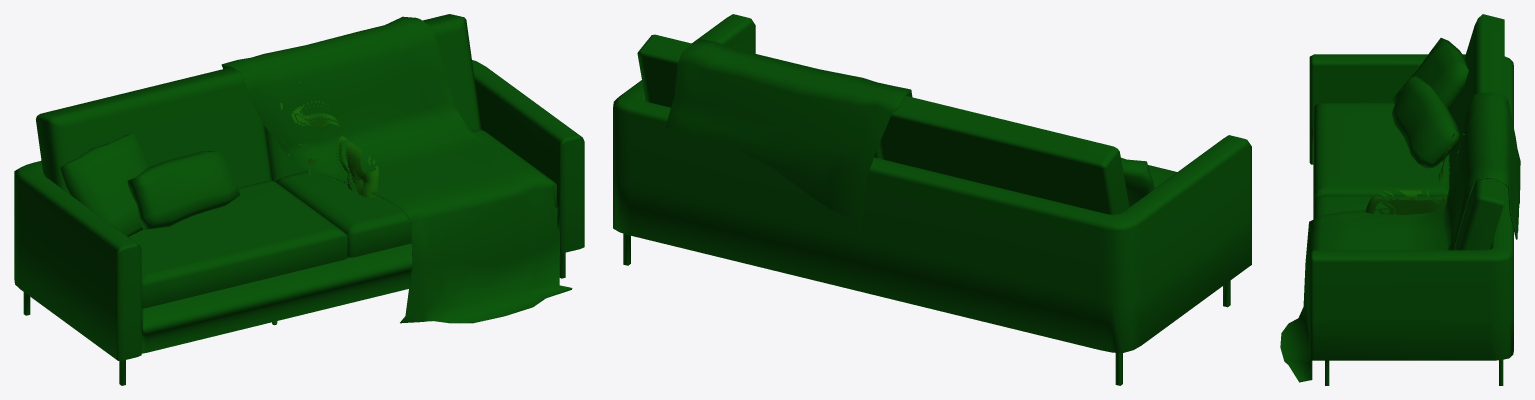
Rendered from Green_Coach.glb.
3 views of the same model, side by side, from view 1: azimuth 30°, elevation 25°; view 2: azimuth 150°, elevation 25°; view 3: azimuth 270°, elevation 25° (orthographic). The views are drawn at different scales.
Parts seen in each view (by area): view 1: Couch_low, Cloth_low, CushionA_low, CushionB_low, need_to_uv:ZBrushPolyMesh3D1_1; view 2: Couch_low, Cloth_low, CushionB_low; view 3: Couch_low, Cloth_low, CushionA_low, CushionB_low, need_to_uv:ZBrushPolyMesh3D1_1.
Boxes of the visible parts, x1=… form: Couch_low: x1=14, y1=14, x2=584, y2=385; Cloth_low: x1=221, y1=16, x2=572, y2=323; CushionA_low: x1=127, y1=150, x2=239, y2=229; CushionB_low: x1=60, y1=134, x2=148, y2=236; need_to_uv:ZBrushPolyMesh3D1_1: x1=272, y1=81, x2=379, y2=325; Couch_low: x1=613, y1=14, x2=1251, y2=385; Cloth_low: x1=665, y1=39, x2=912, y2=231; CushionB_low: x1=1121, y1=157, x2=1154, y2=206; Couch_low: x1=1309, y1=14, x2=1513, y2=385; Cloth_low: x1=1280, y1=92, x2=1520, y2=382; CushionA_low: x1=1391, y1=76, x2=1459, y2=168; CushionB_low: x1=1392, y1=38, x2=1468, y2=109; need_to_uv:ZBrushPolyMesh3D1_1: x1=1365, y1=133, x2=1464, y2=214.
Bounding box in the file's own units: 2.2 × 0.932 × 1.08.
